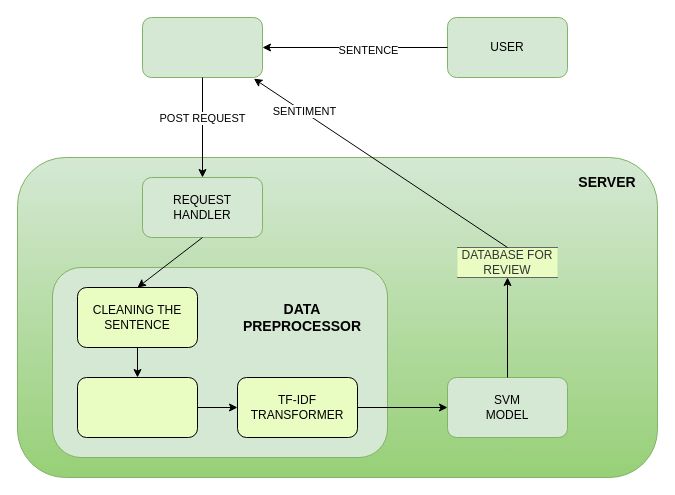
This 675x495 diagram has some shape labels left out. Each missing label, with the centre of its shape:
"COUNT VECTORIZER" belongs at (x=137, y=407).
"WEB INTERFACE" belongs at (x=202, y=47).
